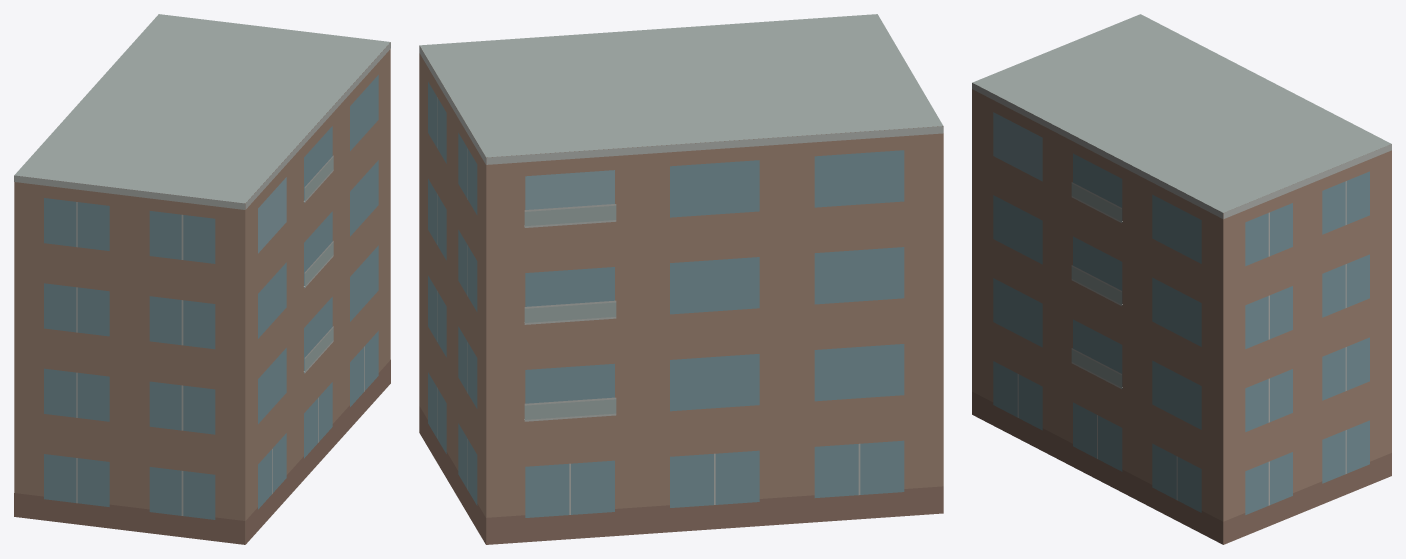
The model's file is survey-upis-32978167.glb.
3 renders of one model, left to right at view 1: azimuth 30°, elevation 25°; view 2: azimuth 150°, elevation 25°; view 3: azimuth 270°, elevation 25°, orthographic. The views are drawn at different scales.
Parts seen in each view (by area): view 1: survey-upis-32978167.tmp; view 2: survey-upis-32978167.tmp; view 3: survey-upis-32978167.tmp.
Boxes of the visible parts, x1=… form: survey-upis-32978167.tmp: x1=14, y1=14, x2=390, y2=544; survey-upis-32978167.tmp: x1=419, y1=14, x2=943, y2=544; survey-upis-32978167.tmp: x1=972, y1=14, x2=1391, y2=544.
Size of the model in its own units: 16.33 by 12.7 by 14.56.
